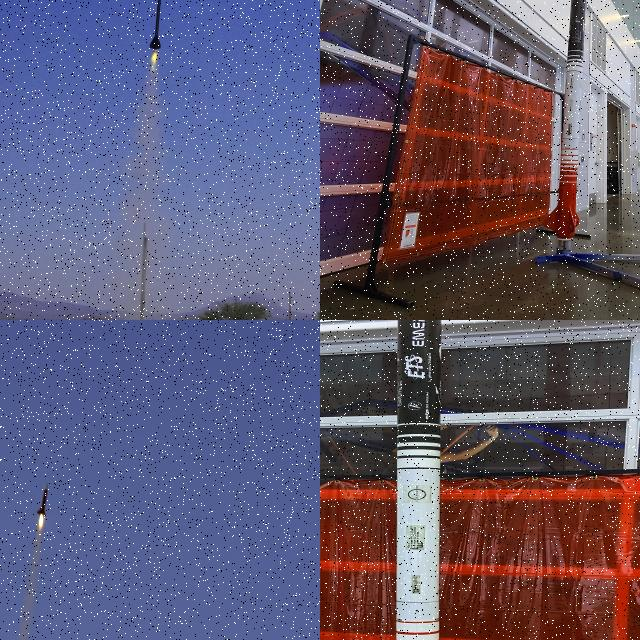Rocket: (397, 320, 442, 640), (544, 0, 587, 239), (150, 0, 170, 51), (36, 481, 49, 516)
